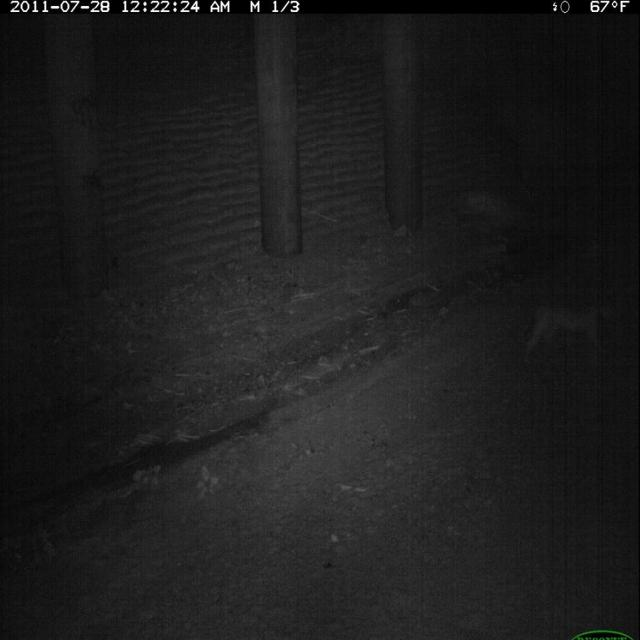bobcat: (519, 287, 620, 368)
